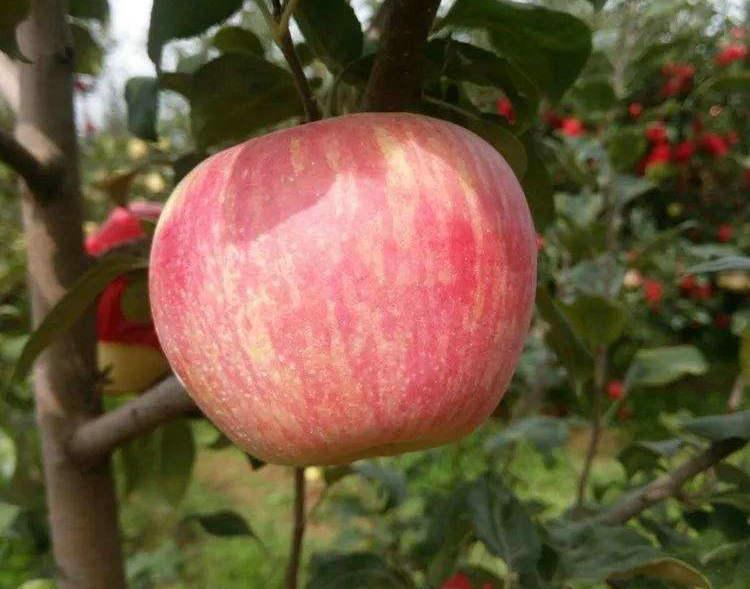apple: (147, 114, 539, 466)
